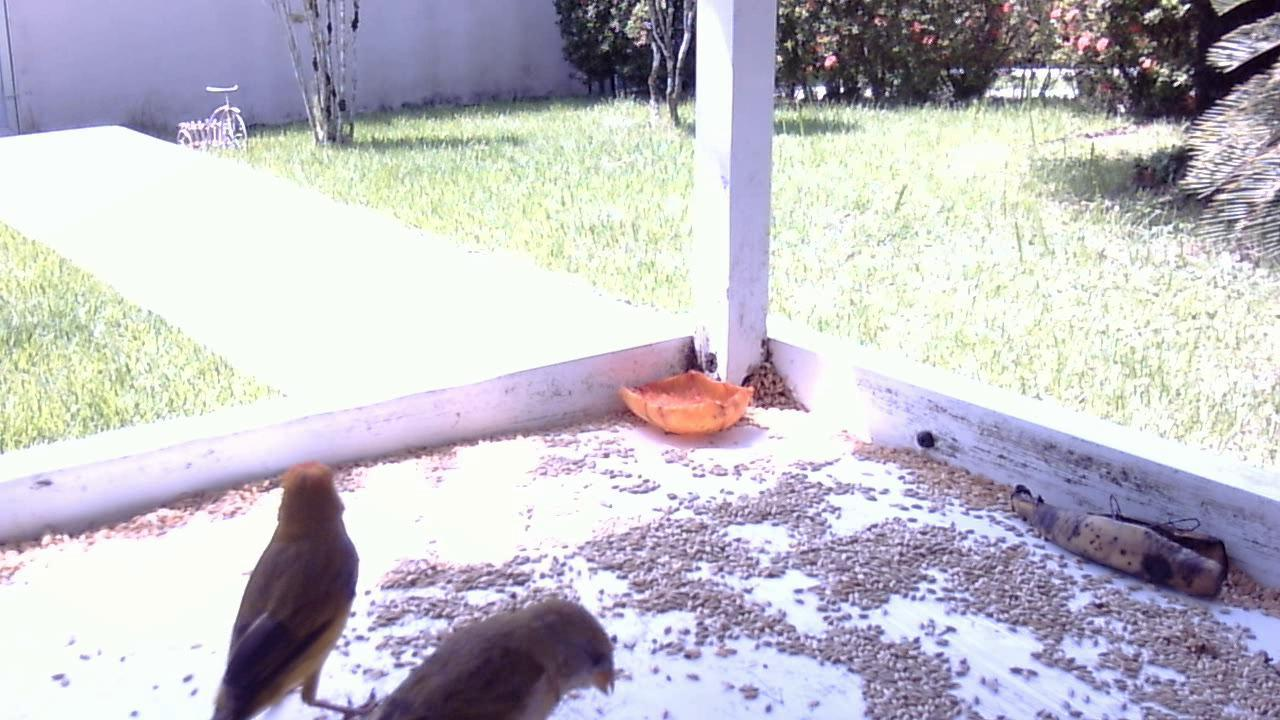canario_do_amazonas: (195, 442, 379, 720), (297, 579, 621, 716)
